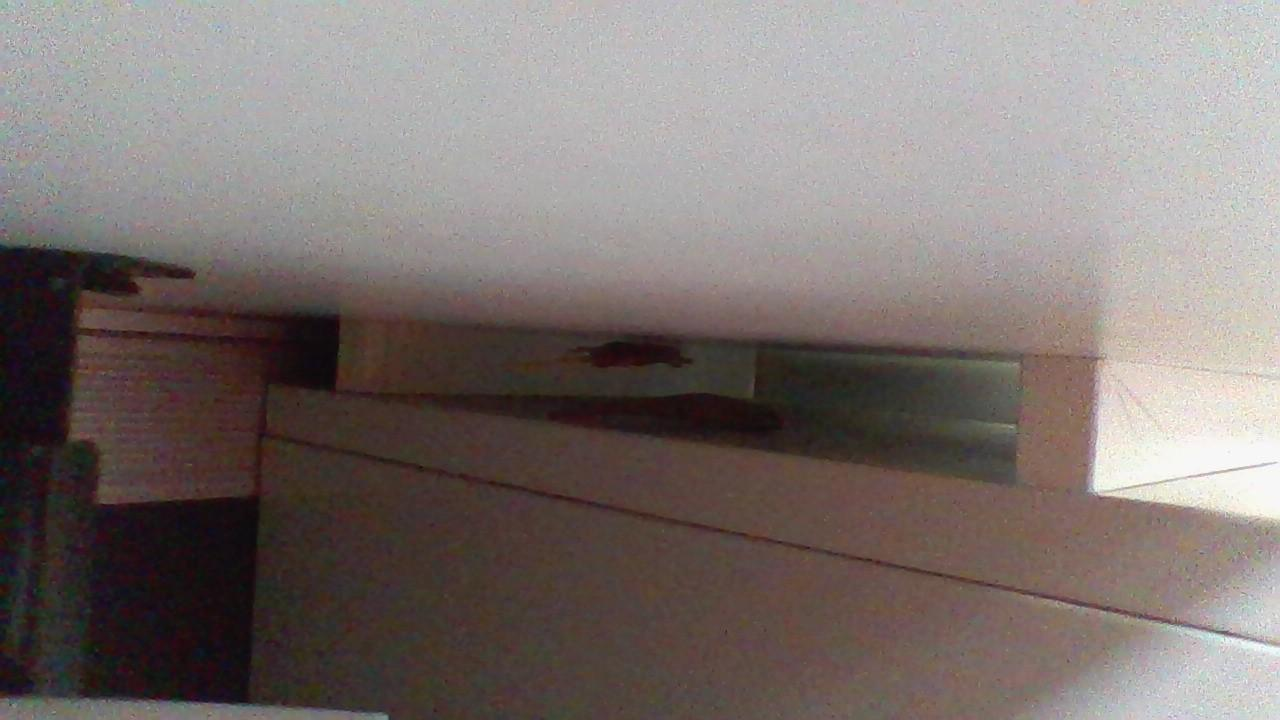cockroach: (546, 327, 725, 376)
lizard: (518, 383, 825, 459)
